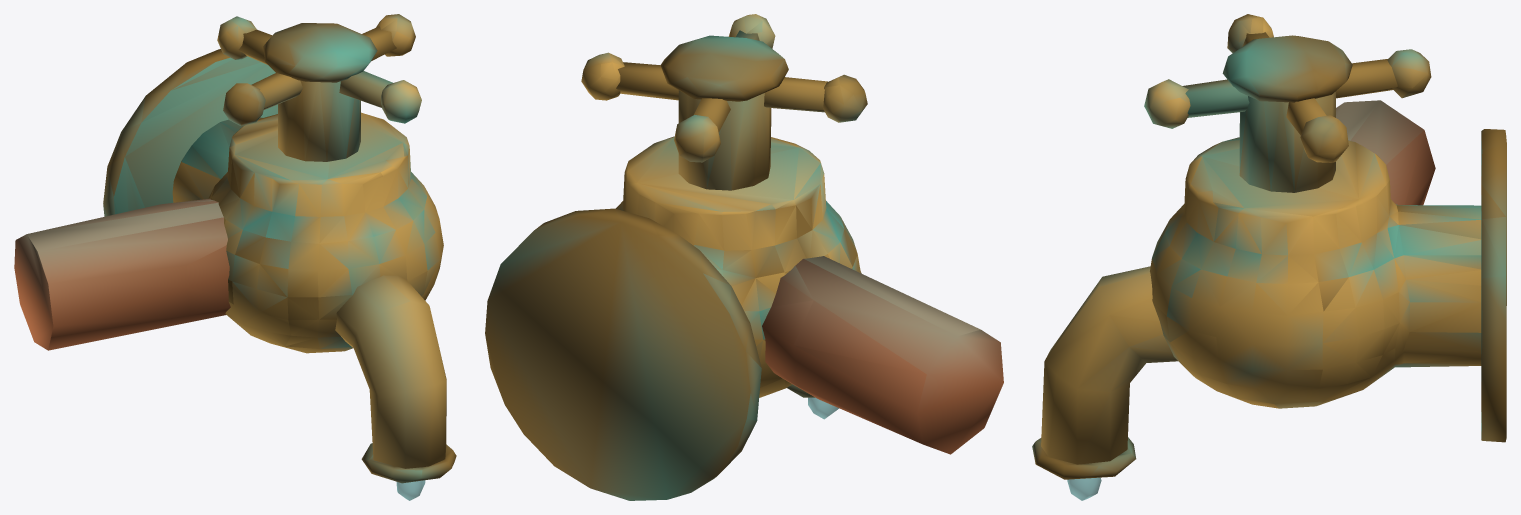
Rendered from grotto_spigot_lod2.glb.
3 renders of one model, left to right at view 1: azimuth 30°, elevation 25°; view 2: azimuth 150°, elevation 25°; view 3: azimuth 270°, elevation 25°, orthographic. The views are drawn at different scales.
Parts seen in each view (by area): view 1: grotto_spigot.001; view 2: grotto_spigot.001; view 3: grotto_spigot.001.
Boxes of the visible parts, <box> form: grotto_spigot.001: <box>14,14,456,500</box>; grotto_spigot.001: <box>485,14,1003,500</box>; grotto_spigot.001: <box>1032,14,1506,500</box>.
Bounding box in the file's own units: 9.13 × 9.17 × 8.75.
